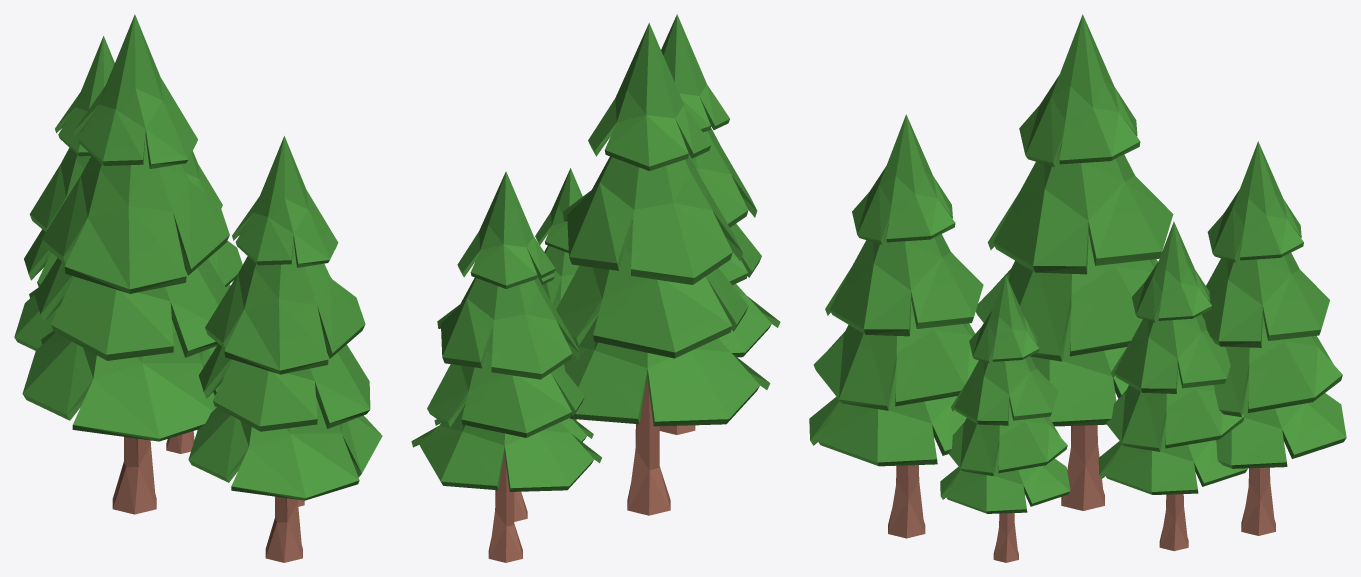
Rendered from Group_Tree.glb.
3 renders of one model, left to right at view 1: azimuth 30°, elevation 25°; view 2: azimuth 150°, elevation 25°; view 3: azimuth 270°, elevation 25°, orthographic.
Parts seen in each view (by area): view 1: fir_001.003; view 2: fir_001.003; view 3: fir_001.003.
Part boxes in pixels (<box>): fir_001.003: <box>14,14,382,562</box>; fir_001.003: <box>411,14,780,562</box>; fir_001.003: <box>809,14,1346,562</box>.
Size of the model in its own units: 3.63 by 6.18 by 6.19.
1 material, 1 textured.
